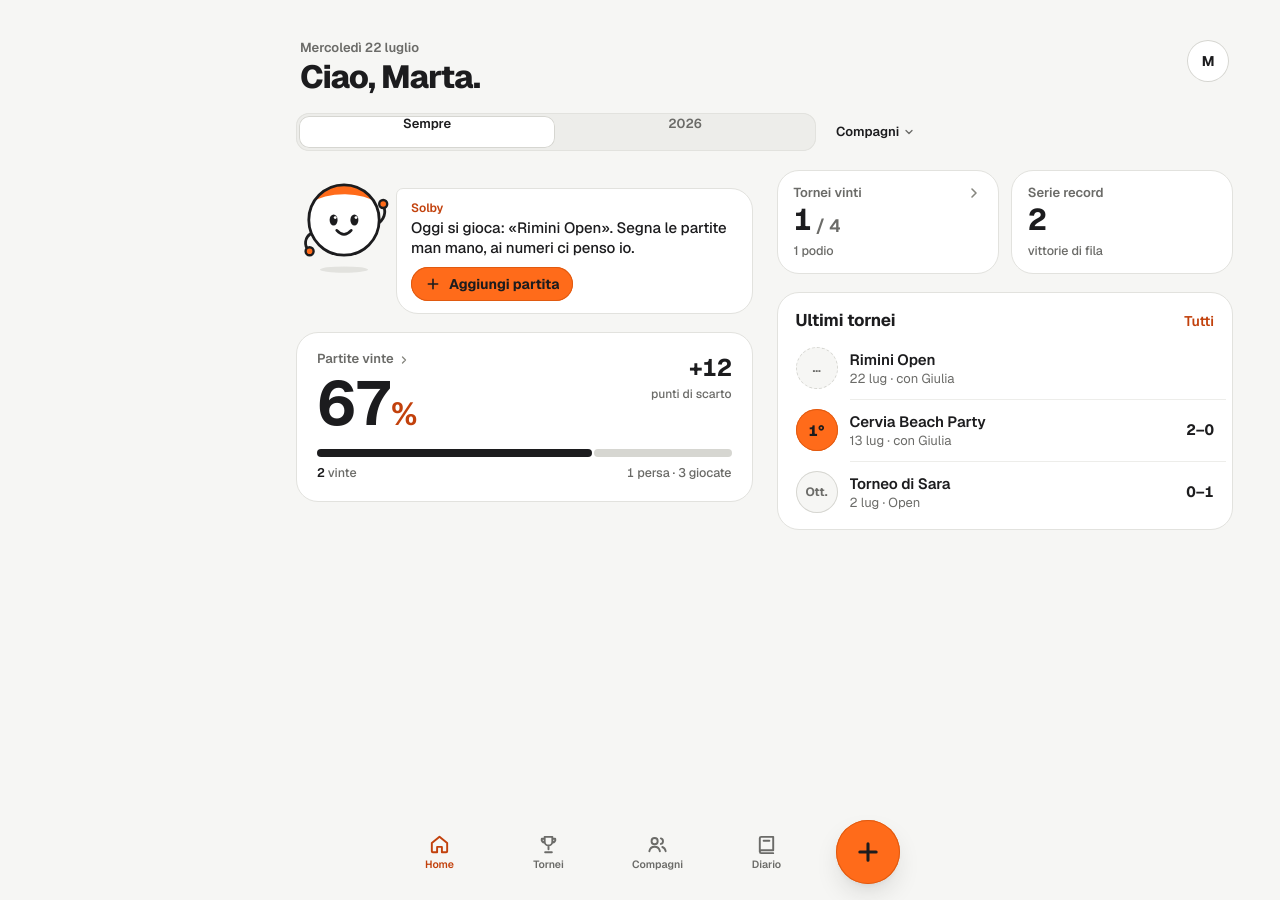
Test: navigazione — focus, titolo e indietro (UX §4.2, §4.4) › aperto dalla Home, ‹ Indietro si chiama «Home»
Expected: the heading "Ciao, Marta." is shown, top-left (300, 60), bottom-right (480, 94)
Step 1. Click the link "1° Cervia Beach Party 13 lug · con Giulia 2–0" → (816, 430), box top-left (784, 399), bottom-right (1226, 461)
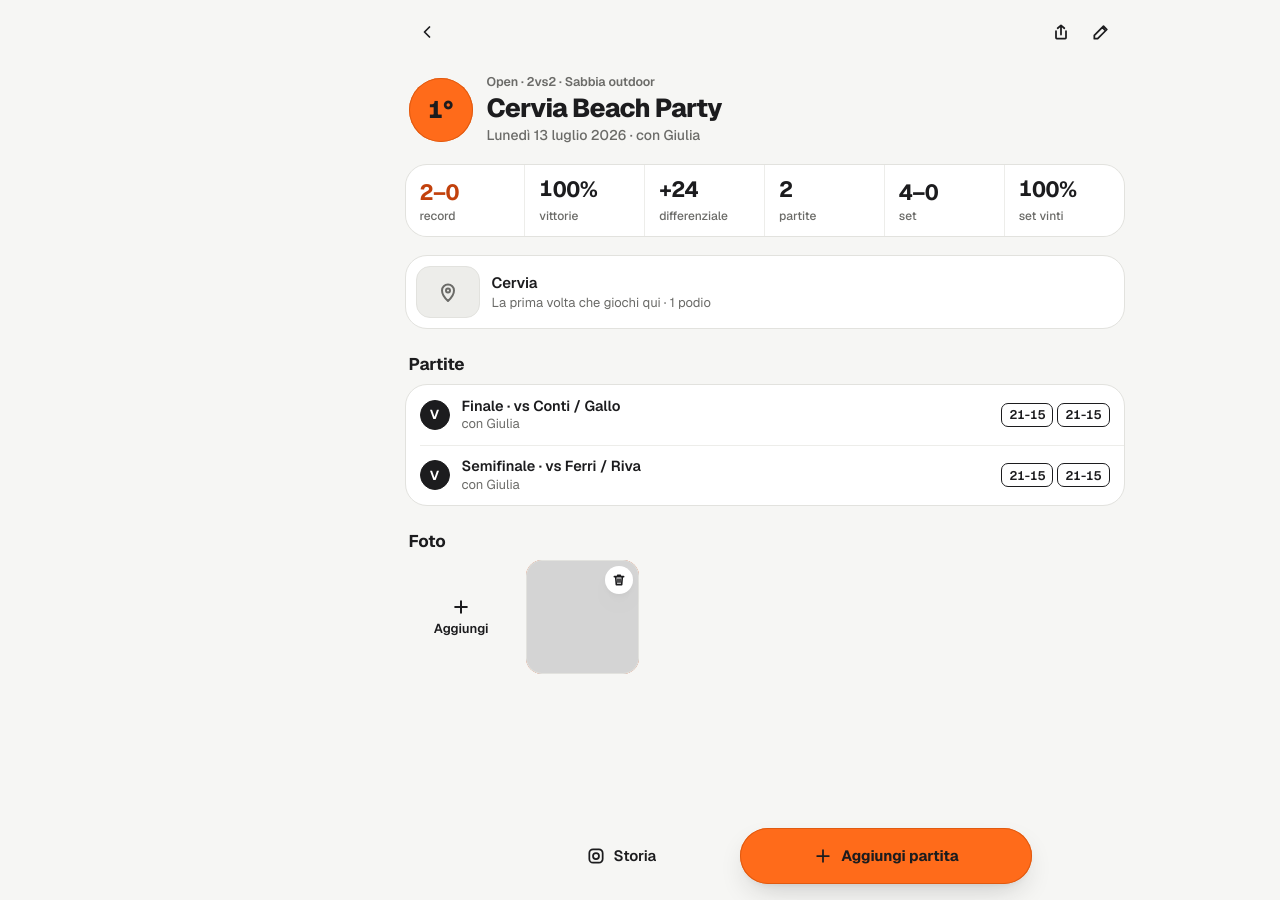
Expected: the heading "Cervia Beach Party" is shown, top-left (486, 91), bottom-right (722, 125)
Expected: the button named "Torna a Home" is shown, top-left (404, 10), bottom-right (448, 54)
